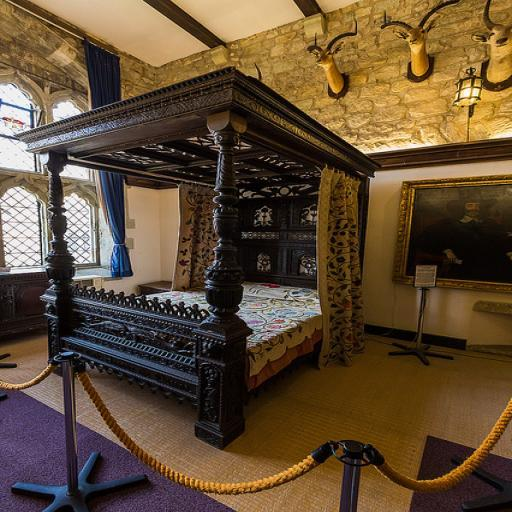bed: (52, 80, 448, 452)
